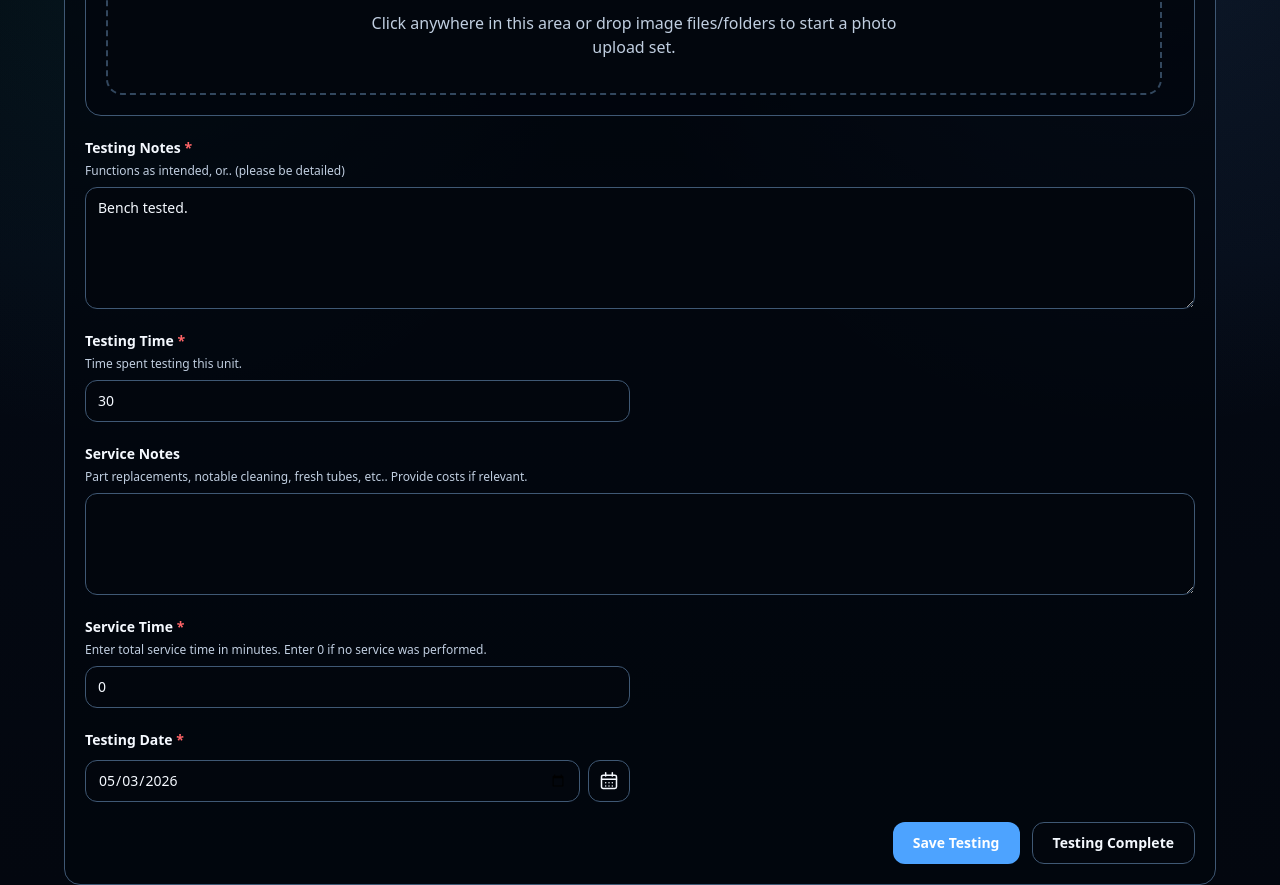
Test: TestingFormTab › allows submission when Audiogon Rating is blank
The width and height of the screenshot is (1280, 885).
(page scrolled)
Click the button "Save Testing" at x=956, y=843, box [893,822,1020,864]
(page scrolled)
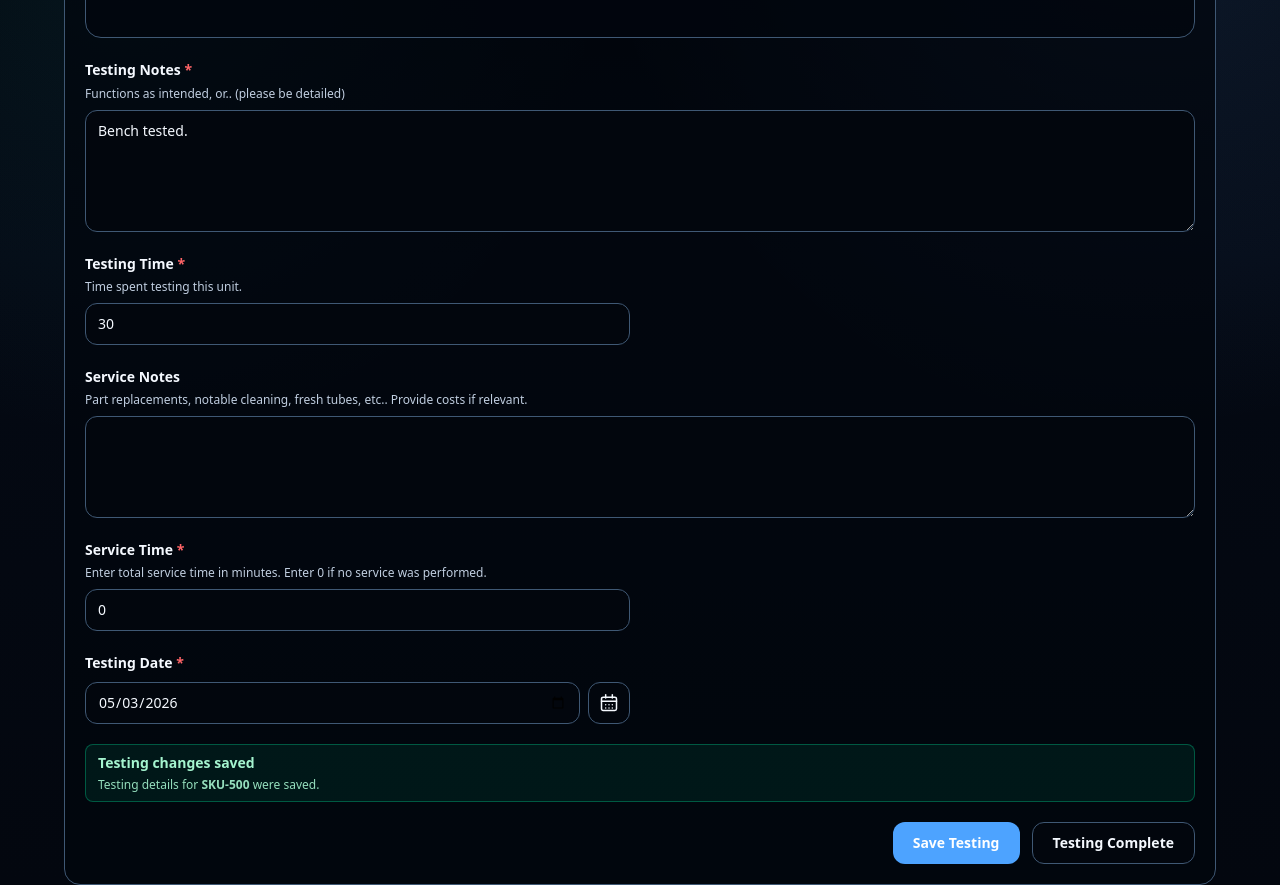
Now the text "Testing changes saved" shows "Testing details for SKU-500 were saved.", box [85,744,1195,802]
